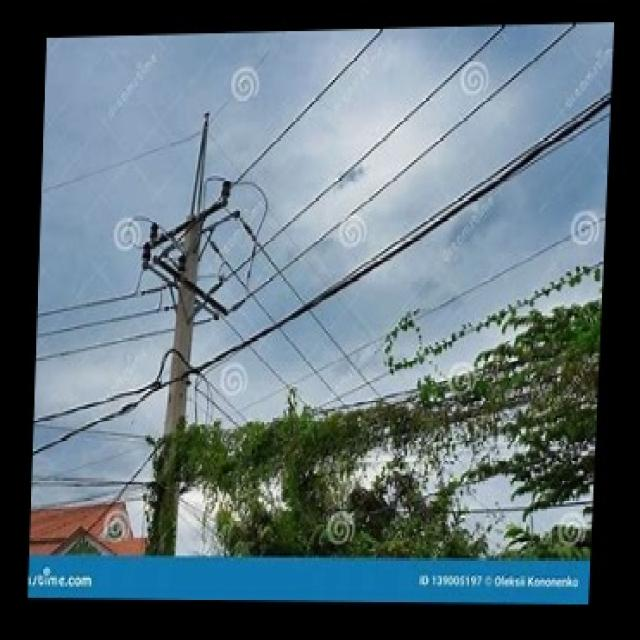critical vegetation: (169, 381, 594, 508)
